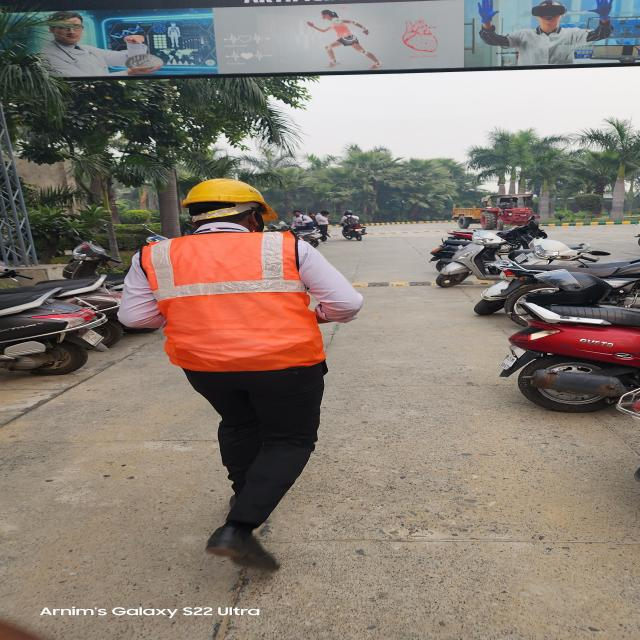safe: (120, 178, 366, 570)
unsafe: (312, 210, 332, 243), (291, 210, 314, 238)
